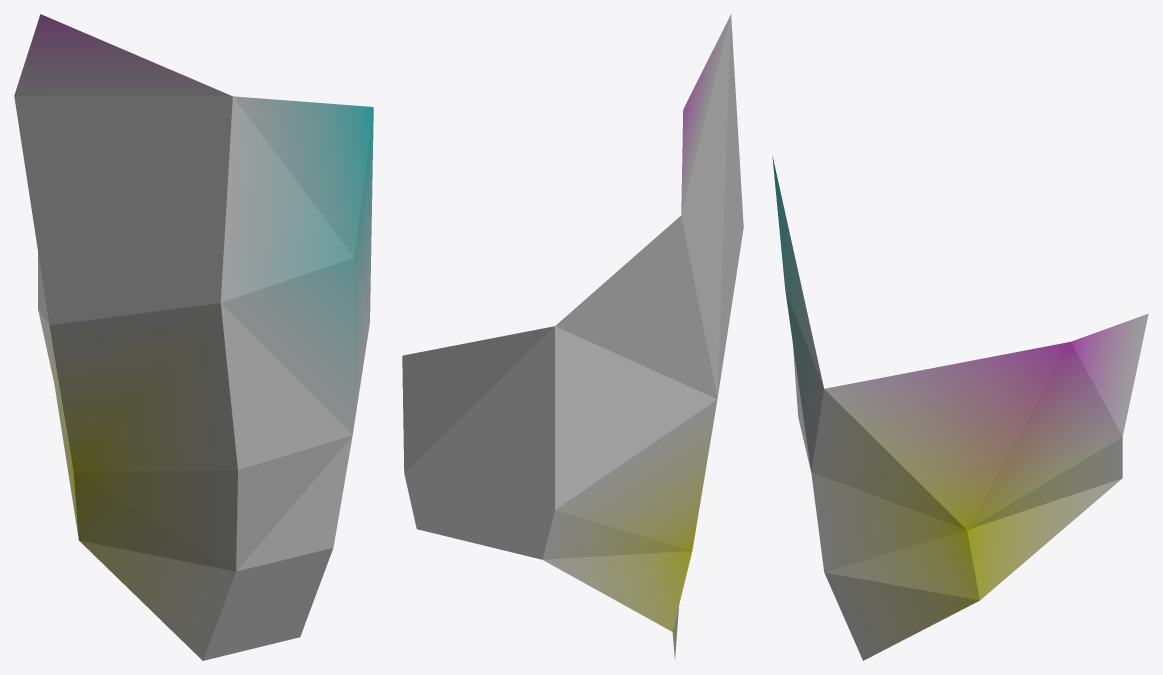
The picture shows the model from 3 angles, left to right: view 1: azimuth 30°, elevation 25°; view 2: azimuth 150°, elevation 25°; view 3: azimuth 270°, elevation 25°; orthographic projection. The views are drawn at different scales.
Visible parts, largest first — view 1: model_116A; view 2: model_116A; view 3: model_116A.
Part boxes in pixels (bbox=[...]): model_116A: bbox=[14, 14, 373, 660]; model_116A: bbox=[402, 14, 743, 658]; model_116A: bbox=[772, 155, 1148, 660].
Bounding box in the file's own units: 20 × 48 × 29.
